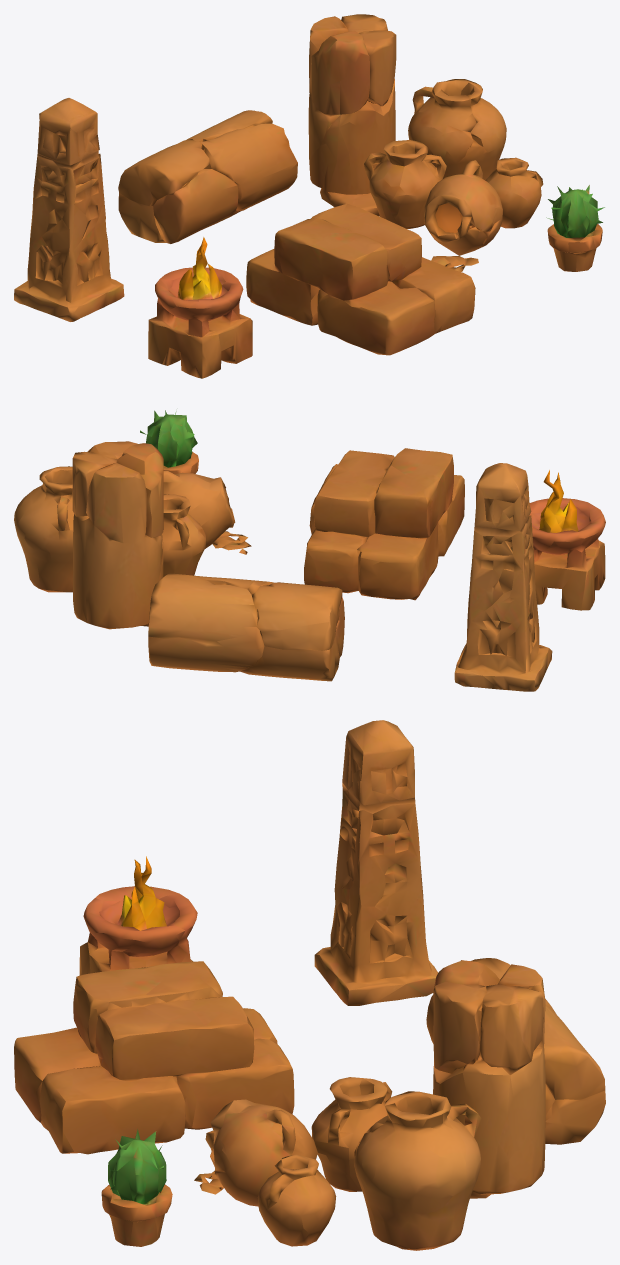
The model's file is desierto_objetos.glb.
3 renders of one model, top to bottom at view 1: azimuth 30°, elevation 25°; view 2: azimuth 150°, elevation 25°; view 3: azimuth 270°, elevation 25°, orthographic. The views are drawn at different scales.
Visible parts, largest first — view 1: tripo_node_6ced8419-7ad1-47c5-a45b-52f463578db6; view 2: tripo_node_6ced8419-7ad1-47c5-a45b-52f463578db6; view 3: tripo_node_6ced8419-7ad1-47c5-a45b-52f463578db6.
Part boxes in pixels (x1,y1,x2,y2): tripo_node_6ced8419-7ad1-47c5-a45b-52f463578db6: (14, 14, 604, 378); tripo_node_6ced8419-7ad1-47c5-a45b-52f463578db6: (14, 410, 605, 691); tripo_node_6ced8419-7ad1-47c5-a45b-52f463578db6: (14, 720, 605, 1250).
Size of the model in its own units: 0.9977 by 0.3871 by 0.8075.
Materials: 1 (1 with a texture image).
